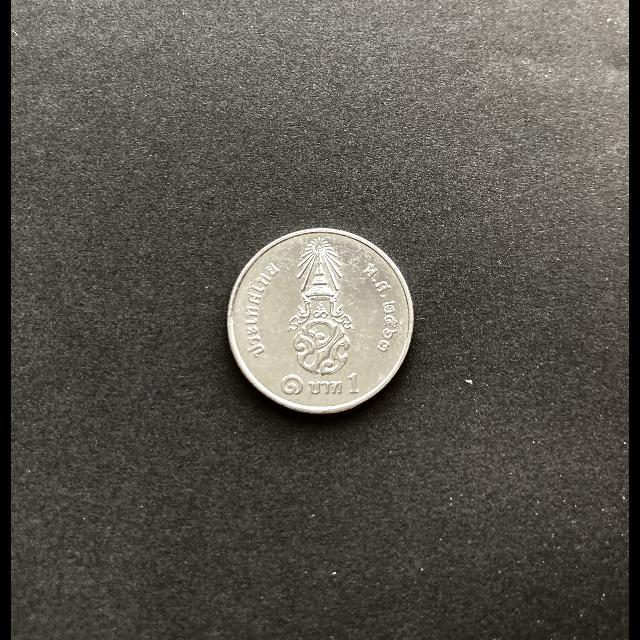1 Bath: (225, 226, 419, 418)
